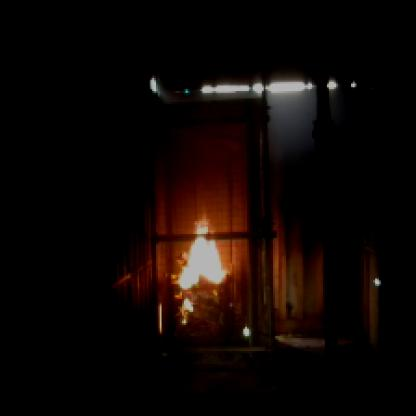Fire: (175, 213, 232, 314)
